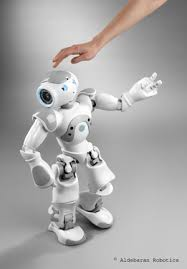nao: (15, 62, 176, 251)
